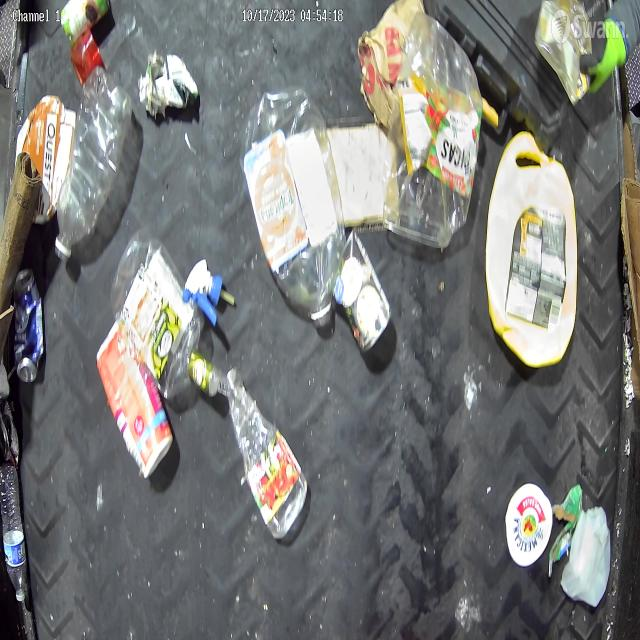can: (536, 3, 592, 107), (11, 266, 45, 383), (62, 0, 112, 37)
non_white_jug: (488, 141, 578, 366)
plastic_bottle: (246, 87, 344, 325), (221, 362, 306, 544), (55, 65, 131, 258), (0, 462, 27, 601)
